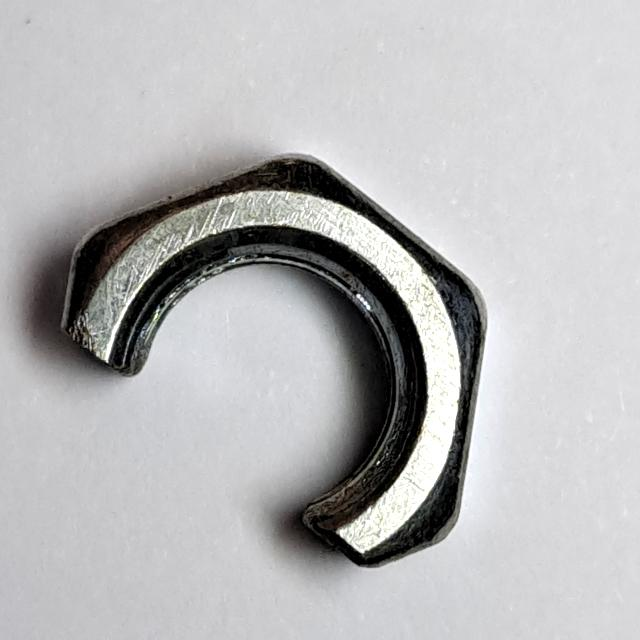Fracture: (47, 147, 500, 582)
